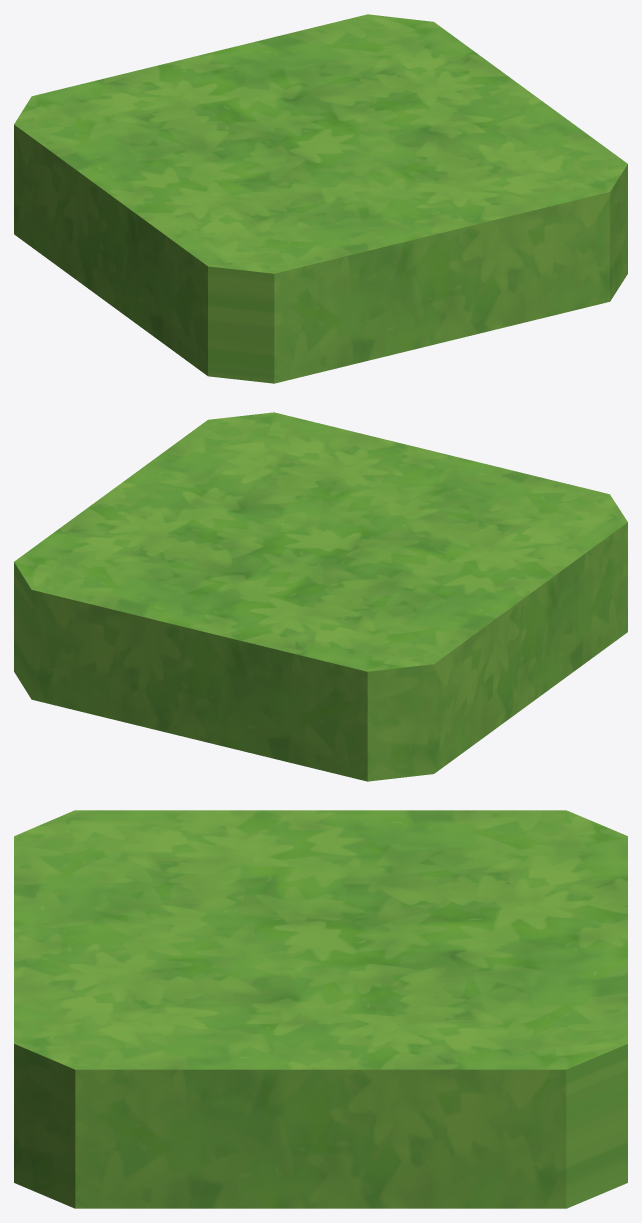
File: FullTile_Rounded_1x1x1.fbx
The picture shows the model from 3 angles, top to bottom: view 1: azimuth 30°, elevation 25°; view 2: azimuth 150°, elevation 25°; view 3: azimuth 270°, elevation 25°; orthographic projection. The views are drawn at different scales.
Visible parts, largest first — view 1: Corner_Grass_BaseTile; view 2: Corner_Grass_BaseTile; view 3: Corner_Grass_BaseTile.
Part boxes in pixels (bbox=[...]): Corner_Grass_BaseTile: bbox=[14, 14, 627, 383]; Corner_Grass_BaseTile: bbox=[14, 412, 627, 781]; Corner_Grass_BaseTile: bbox=[14, 810, 627, 1208].
Size of the model in its own units: 2 by 2 by 0.5.
